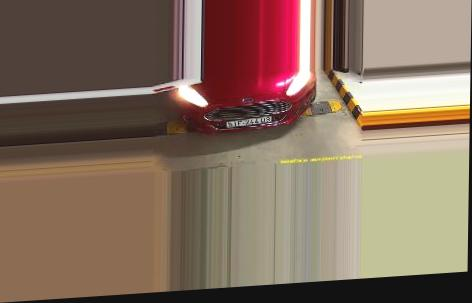License_Plate: (224, 116, 272, 129)
